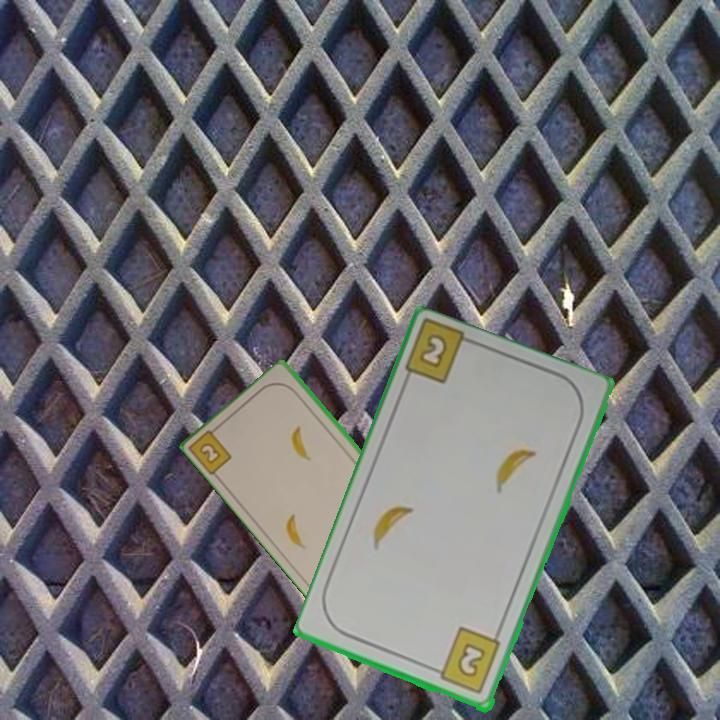2b: (429, 624, 504, 698), (187, 421, 235, 478), (415, 330, 451, 372)
